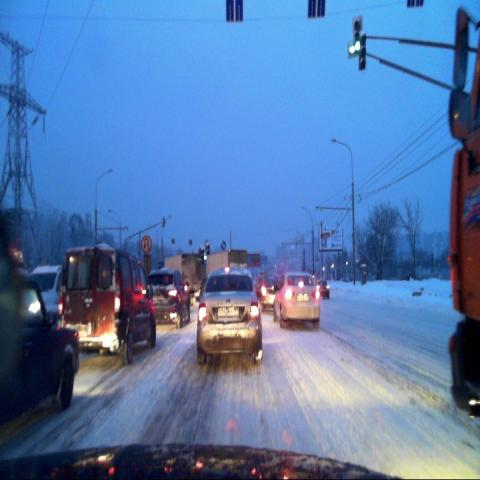5_15_2: (226, 0, 243, 22), (308, 0, 324, 19)
